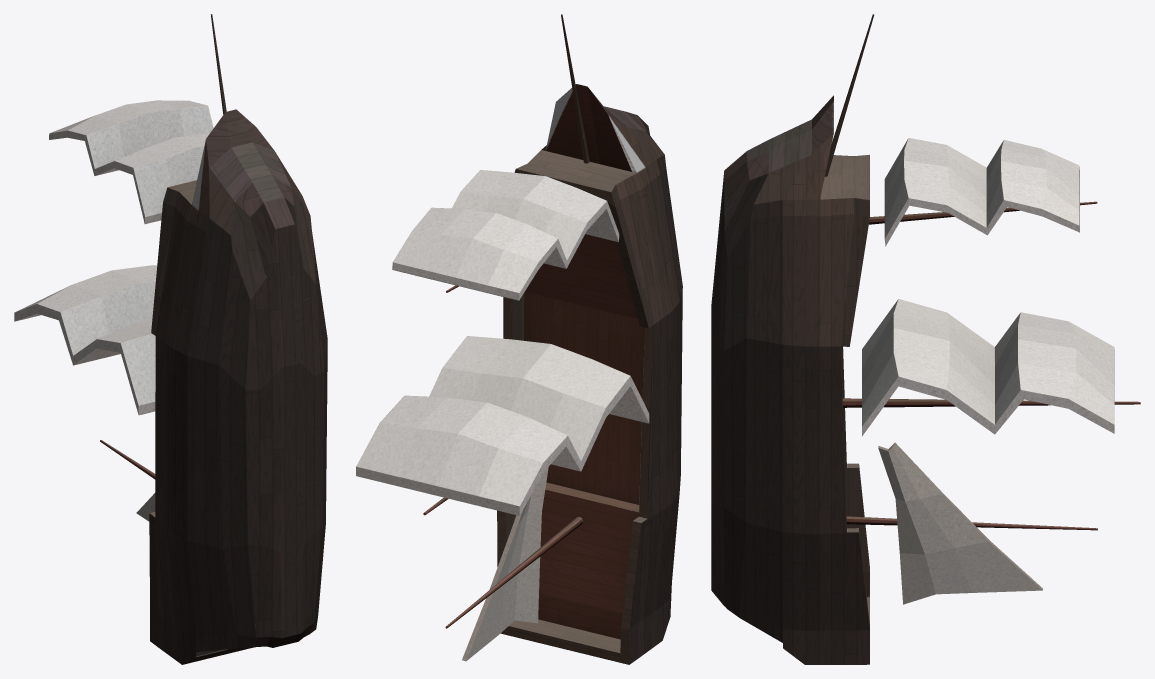
File: frigate.fbx
3 views of the same model, side by side, from view 1: azimuth 30°, elevation 25°; view 2: azimuth 150°, elevation 25°; view 3: azimuth 270°, elevation 25° (orthographic). The views are drawn at different scales.
Parts seen in each view (by area): view 1: Cube.001; view 2: Cube.001; view 3: Cube.001.
Part boxes in pixels (x1=…): Cube.001: x1=14, y1=14, x2=327, y2=664; Cube.001: x1=356, y1=14, x2=682, y2=664; Cube.001: x1=711, y1=14, x2=1140, y2=664.
Bounding box in the file's own units: 343 × 1274 × 800.
Materials: 1 (1 with a texture image).
